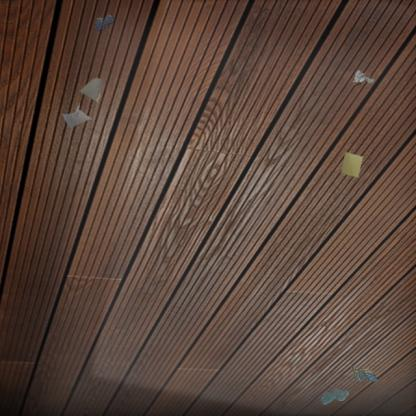dirty: (60, 101, 92, 130), (339, 150, 365, 180), (79, 76, 105, 102), (349, 364, 379, 384), (351, 68, 376, 88)
liquid: (319, 387, 349, 407), (93, 13, 115, 33)
